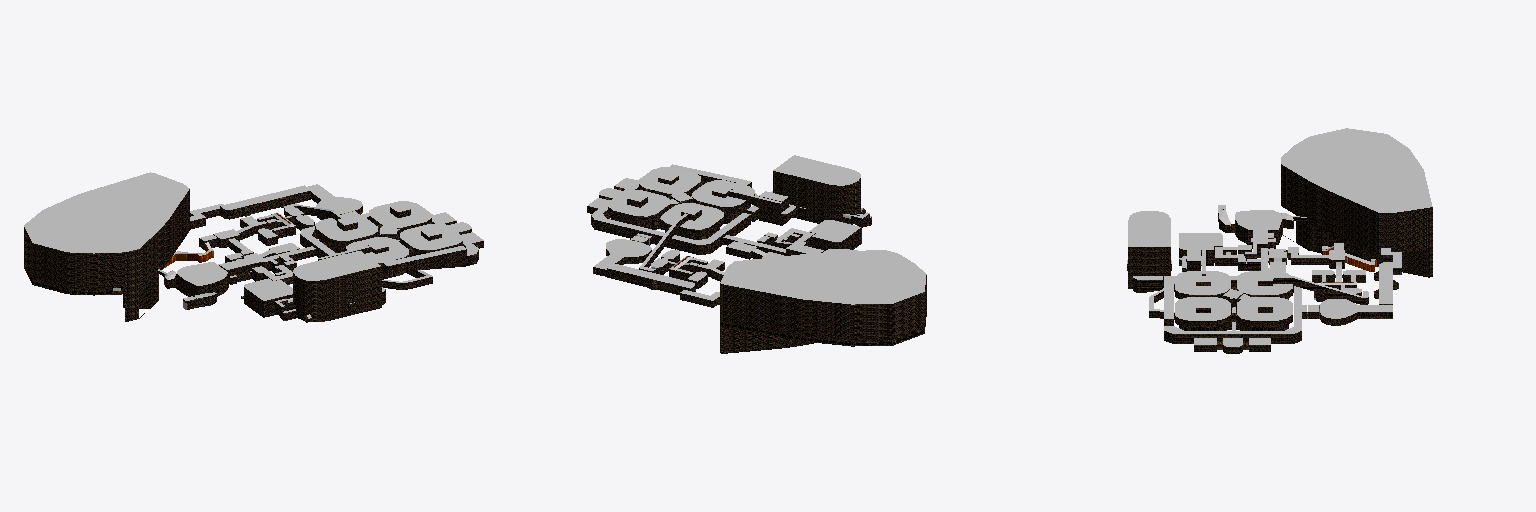
The picture shows the model from 3 angles: view 1: azimuth 30°, elevation 25°; view 2: azimuth 150°, elevation 25°; view 3: azimuth 270°, elevation 25°; orthographic projection.
Parts seen in each view (by area): view 1: Room129, Room110, Room1, Room70, Room91, Room73, Room124, Room62, Room34, Room130, Room66, Room121; view 2: Room129, Room110, Room73, Room130, Room70, Room62, Room124, Room66, Room86, Room34, Room121, Room60; view 3: Room129, Room110, Room130, Room70, Room73, Room1, Room66, Room62, Room89, Room121, Room34, Room135 (+1 smaller).
Part boxes in pixels (bbox=[...]): Room129: bbox=[24, 172, 189, 321]; Room110: bbox=[293, 251, 381, 321]; Room1: bbox=[176, 262, 228, 296]; Room70: bbox=[400, 224, 462, 255]; Room91: bbox=[383, 246, 466, 274]; Room73: bbox=[369, 201, 431, 232]; Room124: bbox=[220, 185, 310, 219]; Room62: bbox=[315, 214, 378, 247]; Room34: bbox=[246, 280, 292, 317]; Room130: bbox=[123, 242, 213, 318]; Room66: bbox=[346, 237, 408, 269]; Room121: bbox=[316, 197, 362, 219]; Room129: bbox=[720, 250, 926, 346]; Room110: bbox=[773, 155, 860, 224]; Room73: bbox=[608, 190, 670, 223]; Room130: bbox=[720, 325, 813, 353]; Room70: bbox=[639, 167, 701, 199]; Room62: bbox=[661, 203, 723, 236]; Room124: bbox=[607, 263, 695, 294]; Room66: bbox=[692, 180, 754, 213]; Room86: bbox=[602, 218, 695, 252]; Room34: bbox=[809, 220, 861, 249]; Room121: bbox=[606, 239, 651, 263]; Room60: bbox=[708, 213, 750, 249]; Room129: bbox=[1281, 128, 1432, 254]; Room110: bbox=[1128, 211, 1170, 288]; Room130: bbox=[1282, 215, 1432, 277]; Room70: bbox=[1175, 297, 1230, 327]; Room73: bbox=[1237, 297, 1292, 327]; Room1: bbox=[1235, 210, 1282, 244]; Room66: bbox=[1175, 271, 1230, 298]; Room62: bbox=[1237, 271, 1292, 298]; Room89: bbox=[1184, 331, 1284, 343]; Room121: bbox=[1320, 299, 1357, 325]; Room34: bbox=[1179, 233, 1213, 265]; Room135: bbox=[1294, 277, 1362, 304].
Size of the model in its own units: 14560 by 2560 by 10112.
Materials: 48 (39 with a texture image).